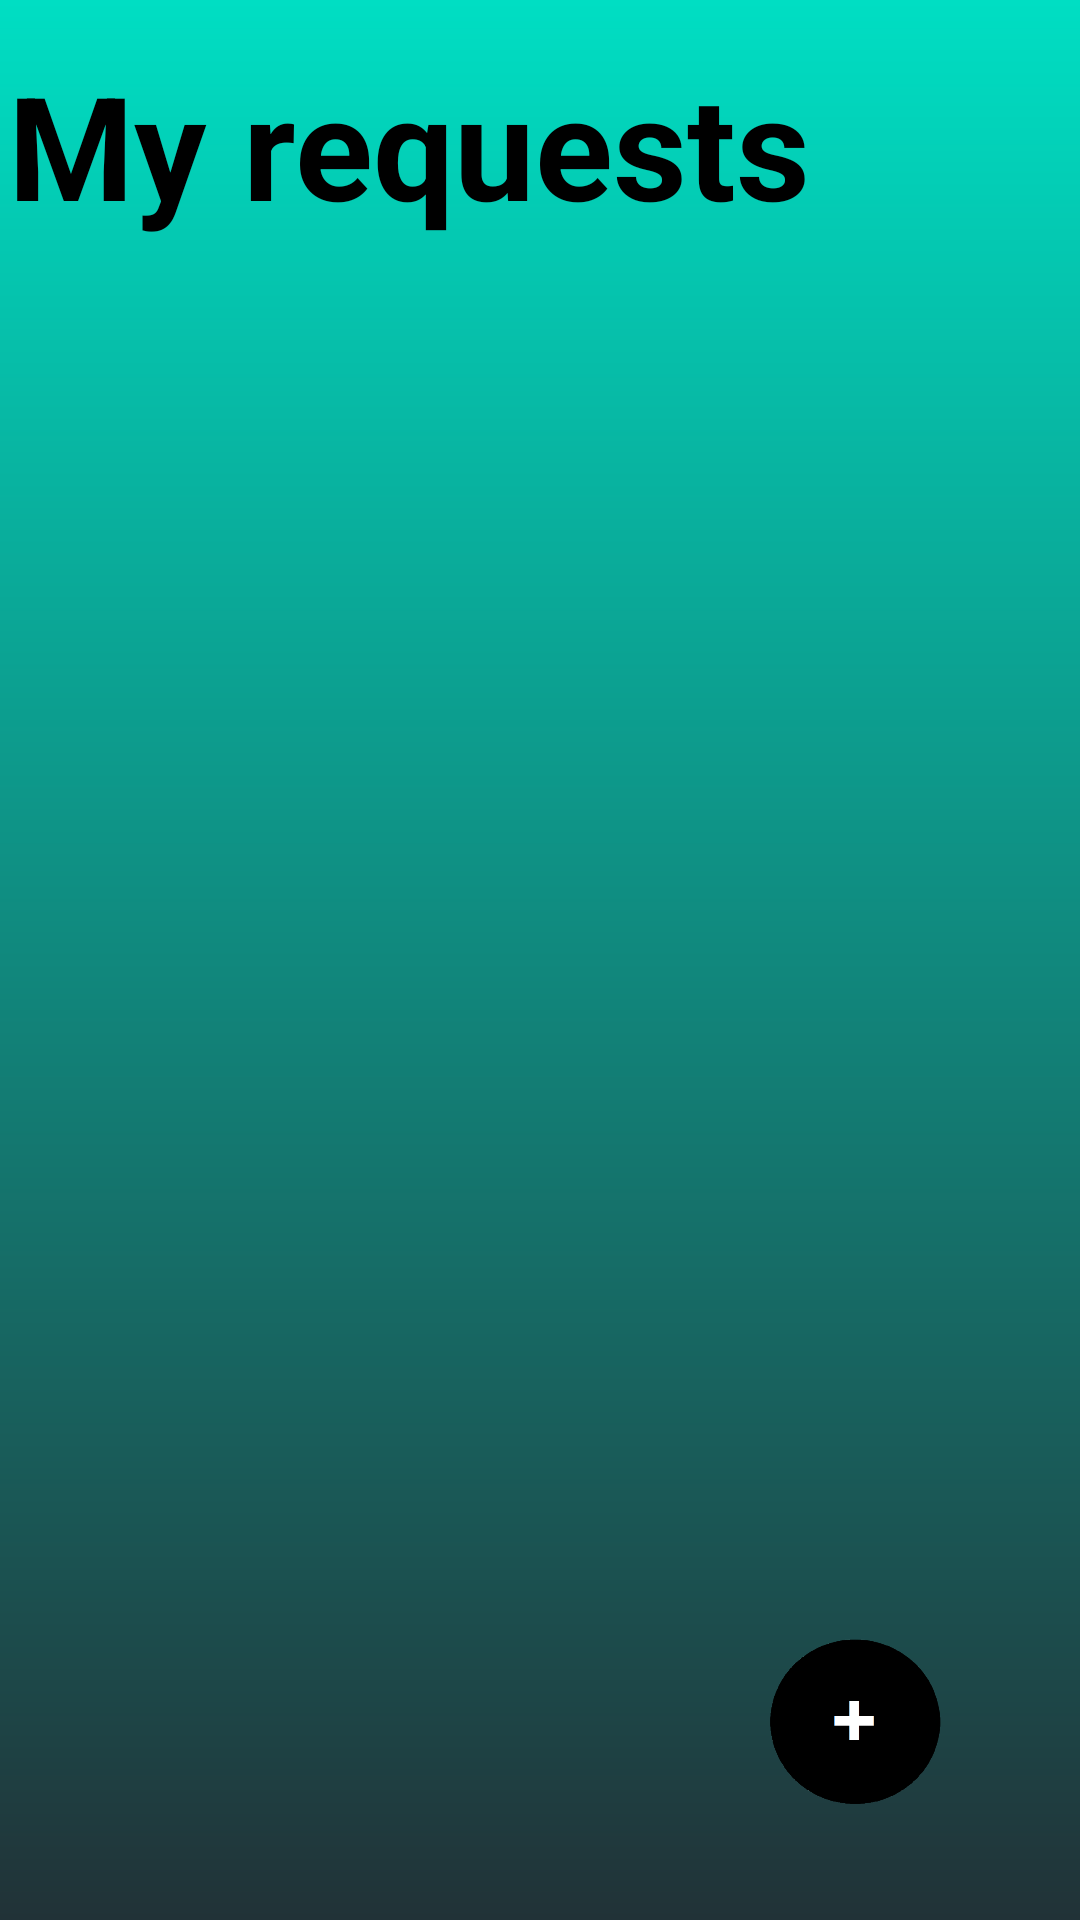

Point at icon controls on the screen. Image size 1080 × 1920, points as (x,y).
floating: (855,1721)
